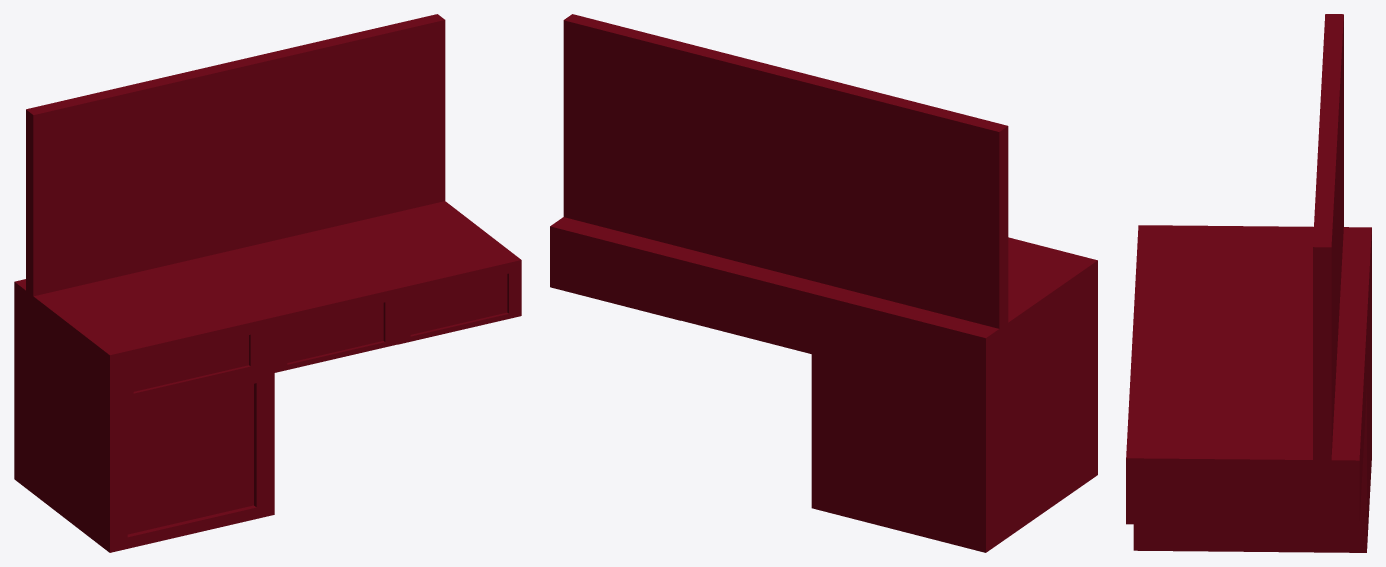
Rendered from DeskTable.fbx.
3 views of the same model, side by side, from view 1: azimuth 30°, elevation 25°; view 2: azimuth 150°, elevation 25°; view 3: azimuth 270°, elevation 25° (orthographic). The views are drawn at different scales.
Visible parts, largest first — view 1: DeskTable; view 2: DeskTable; view 3: DeskTable.
Part boxes in pixels (x1,y1,x2,y2): DeskTable: [14, 14, 521, 552]; DeskTable: [550, 14, 1097, 552]; DeskTable: [1126, 14, 1371, 552].
Size of the model in its own units: 0.3761 by 0.3318 by 0.166.
